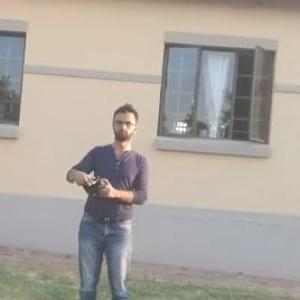follow: (62, 94, 160, 299)
